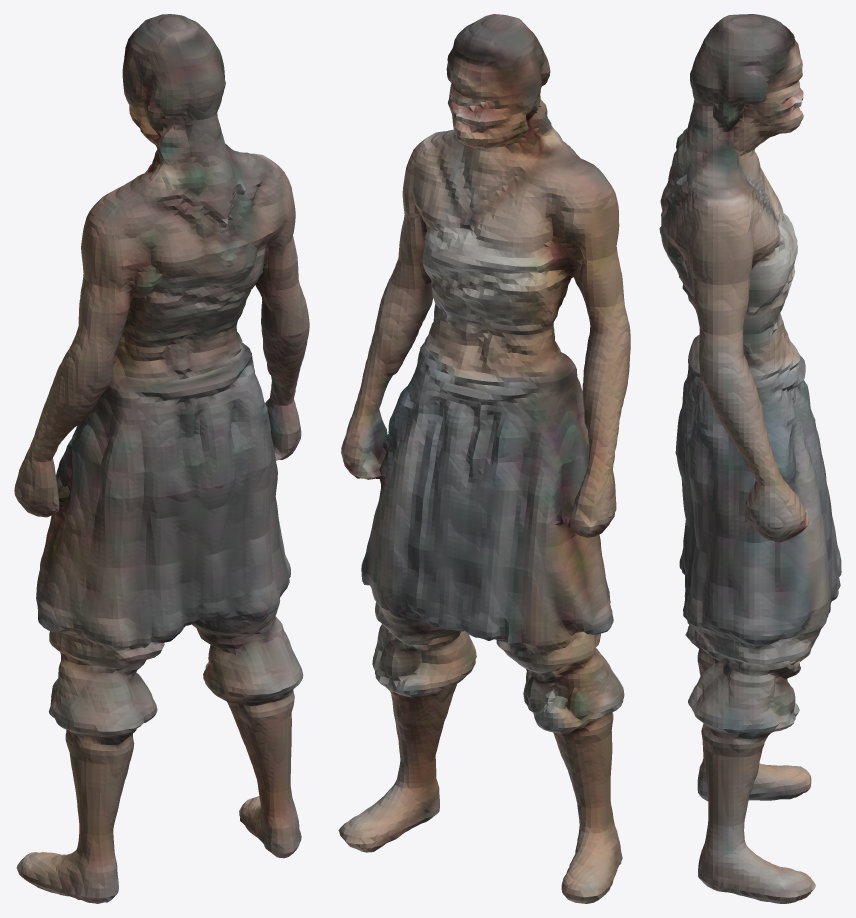
The model's file is girl_0.glb.
3 views of the same model, side by side, from view 1: azimuth 30°, elevation 25°; view 2: azimuth 150°, elevation 25°; view 3: azimuth 270°, elevation 25° (orthographic). The views are drawn at different scales.
Parts seen in each view (by area): view 1: world; view 2: world; view 3: world.
Boxes of the visible parts, x1,y1,x2,y2 form: world: [14, 14, 309, 903]; world: [338, 14, 630, 903]; world: [659, 14, 841, 903].
Bounding box in the file's own units: 0.3255 × 0.9658 × 0.1917.
